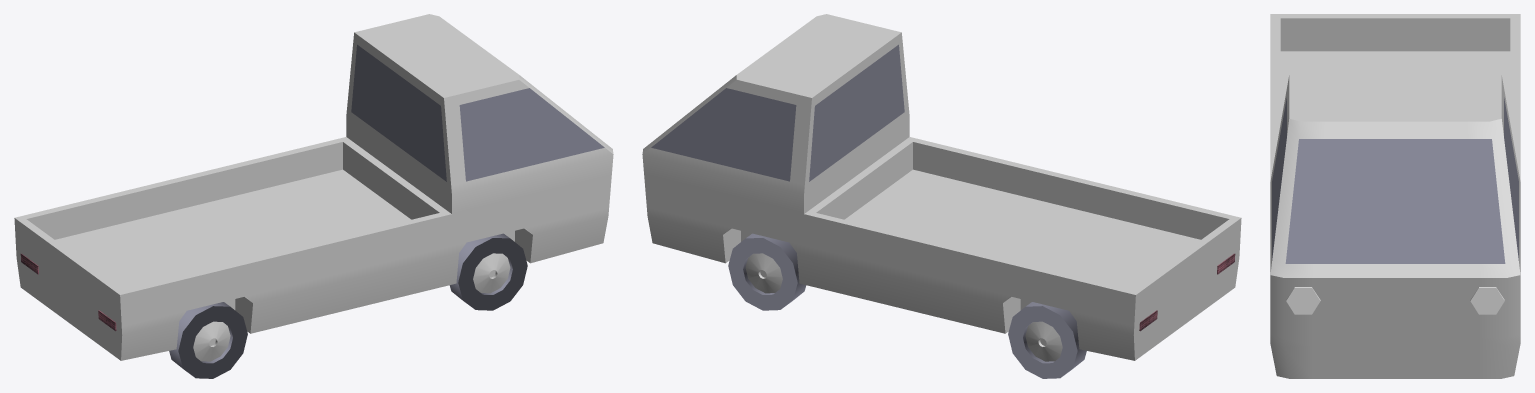
The model's file is PickUpWhite.gltf.
3 views of the same model, side by side, from view 1: azimuth 30°, elevation 25°; view 2: azimuth 150°, elevation 25°; view 3: azimuth 270°, elevation 25° (orthographic). The views are drawn at different scales.
Visible parts, largest first — view 1: Main body, Windows/Wheels, Wheels, Disk; view 2: Main body, Windows/Wheels, Wheels, Disk; view 3: Main body, Windows/Wheels, Front lights.
Boxes of the visible parts, x1=… form: Main body: x1=14, y1=14, x2=613, y2=360; Windows/Wheels: x1=351, y1=44, x2=604, y2=181; Wheels: x1=169, y1=233, x2=527, y2=378; Disk: x1=193, y1=253, x2=510, y2=361; Main body: x1=642, y1=14, x2=1241, y2=360; Windows/Wheels: x1=651, y1=44, x2=904, y2=181; Wheels: x1=728, y1=233, x2=1086, y2=378; Disk: x1=745, y1=253, x2=1062, y2=361; Main body: x1=1270, y1=14, x2=1520, y2=378; Windows/Wheels: x1=1272, y1=97, x2=1518, y2=263; Front lights: x1=1286, y1=287, x2=1504, y2=314.
Size of the model in its own units: 0.0492 by 0.0207 by 0.018.
6 materials, 1 textured.
